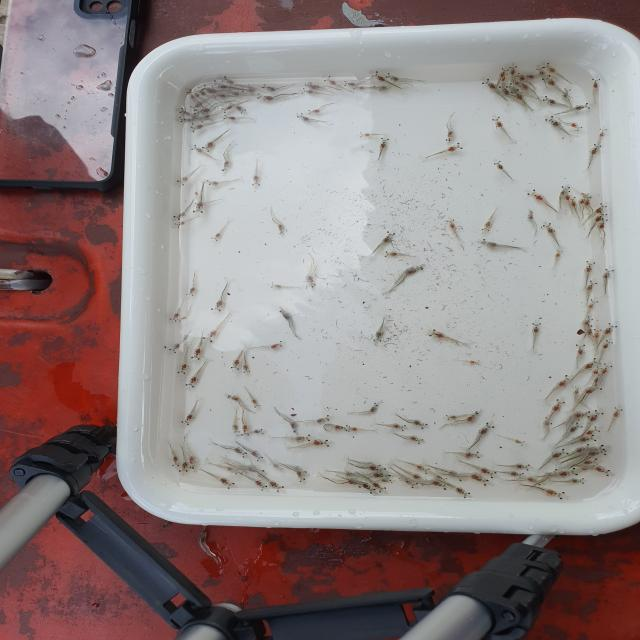babyshrimp: (469, 472, 492, 488), (178, 411, 198, 428), (544, 488, 570, 501), (454, 486, 476, 501), (525, 188, 547, 203), (402, 264, 425, 277), (553, 467, 580, 478), (567, 411, 591, 423), (267, 480, 287, 494), (544, 115, 564, 129), (369, 467, 392, 479), (203, 329, 220, 345), (478, 421, 495, 437), (583, 357, 602, 371), (583, 448, 609, 458), (541, 62, 561, 75), (278, 306, 294, 322), (361, 481, 378, 496), (556, 375, 575, 388), (293, 468, 308, 484), (549, 447, 569, 459), (550, 397, 565, 413), (585, 384, 605, 396), (184, 375, 201, 389), (588, 408, 605, 422), (541, 74, 558, 88), (308, 439, 334, 448), (371, 482, 389, 495), (369, 69, 387, 82), (446, 142, 467, 153), (571, 444, 594, 454), (189, 143, 208, 155), (479, 467, 498, 479), (530, 319, 542, 338), (603, 321, 618, 336), (381, 230, 396, 245), (201, 139, 217, 153), (176, 360, 190, 376), (192, 200, 205, 217), (218, 477, 235, 490), (611, 404, 624, 421), (480, 78, 497, 91), (426, 329, 450, 338), (168, 341, 183, 355), (210, 80, 229, 91), (411, 419, 430, 430), (491, 114, 504, 130), (174, 175, 191, 187), (595, 465, 612, 477), (581, 457, 601, 467), (584, 425, 602, 436), (303, 275, 317, 289), (593, 211, 608, 224), (253, 93, 277, 101), (603, 265, 615, 281), (511, 88, 527, 100), (478, 238, 497, 248), (231, 447, 248, 458), (465, 411, 482, 422), (384, 423, 407, 431), (211, 299, 225, 312), (250, 450, 264, 463), (542, 221, 555, 235), (251, 173, 263, 188), (222, 393, 242, 402), (584, 259, 596, 274), (559, 184, 571, 199), (595, 217, 610, 229), (295, 112, 311, 123), (541, 95, 557, 106), (194, 107, 213, 116), (463, 451, 482, 460), (580, 433, 599, 442), (573, 102, 592, 111), (172, 212, 189, 222), (189, 453, 199, 470), (254, 479, 267, 492), (586, 297, 599, 310), (595, 202, 608, 215), (506, 82, 519, 95), (436, 475, 448, 489), (588, 143, 602, 155), (569, 422, 584, 433), (218, 76, 236, 85), (201, 84, 217, 94), (189, 124, 205, 134), (184, 88, 196, 101), (191, 349, 204, 361), (602, 337, 614, 350), (372, 330, 384, 343), (481, 221, 493, 234), (493, 160, 506, 172), (234, 104, 248, 115), (565, 478, 587, 485), (542, 413, 553, 427), (587, 278, 598, 292), (567, 195, 578, 209), (294, 434, 311, 443), (315, 415, 332, 424), (268, 281, 285, 290), (201, 179, 220, 187), (513, 463, 532, 471), (221, 160, 231, 175), (173, 116, 194, 123), (175, 107, 191, 116), (250, 397, 262, 409), (363, 464, 381, 472), (409, 436, 425, 445), (602, 363, 614, 375), (582, 314, 594, 326), (384, 73, 402, 81), (210, 232, 223, 243), (169, 311, 180, 324), (240, 425, 251, 438), (271, 340, 285, 350), (592, 373, 606, 383), (382, 251, 402, 258), (261, 84, 278, 92), (222, 114, 239, 122), (224, 466, 241, 474), (332, 424, 349, 432), (416, 464, 431, 473), (406, 481, 421, 490), (230, 360, 241, 372), (178, 461, 189, 473), (369, 401, 380, 413), (575, 344, 586, 356), (446, 218, 457, 230), (379, 138, 390, 150), (570, 122, 583, 132), (590, 79, 603, 89), (323, 75, 336, 85), (189, 103, 203, 112), (445, 415, 463, 422), (499, 67, 510, 78), (536, 66, 547, 77), (171, 221, 186, 229), (573, 386, 583, 398), (510, 471, 527, 478), (290, 420, 299, 433), (554, 247, 563, 260), (278, 223, 286, 237), (186, 287, 197, 297), (525, 210, 535, 221), (445, 131, 455, 142), (509, 64, 518, 76), (253, 427, 266, 435), (214, 93, 231, 99), (342, 81, 359, 87), (412, 472, 423, 481), (563, 87, 572, 98), (348, 425, 362, 432), (195, 87, 207, 95), (581, 191, 593, 199), (358, 132, 374, 138), (220, 106, 233, 113), (233, 422, 240, 435), (586, 324, 593, 337), (301, 88, 314, 95), (306, 109, 321, 115), (192, 89, 202, 98), (242, 364, 251, 374), (378, 479, 396, 484), (592, 366, 602, 375), (564, 193, 573, 203), (599, 128, 608, 138), (352, 85, 367, 91), (172, 456, 180, 467), (593, 328, 601, 339), (429, 480, 441, 487), (513, 439, 525, 446), (583, 198, 592, 207), (470, 360, 482, 366), (178, 316, 187, 323), (577, 198, 586, 205), (307, 84, 319, 89)
